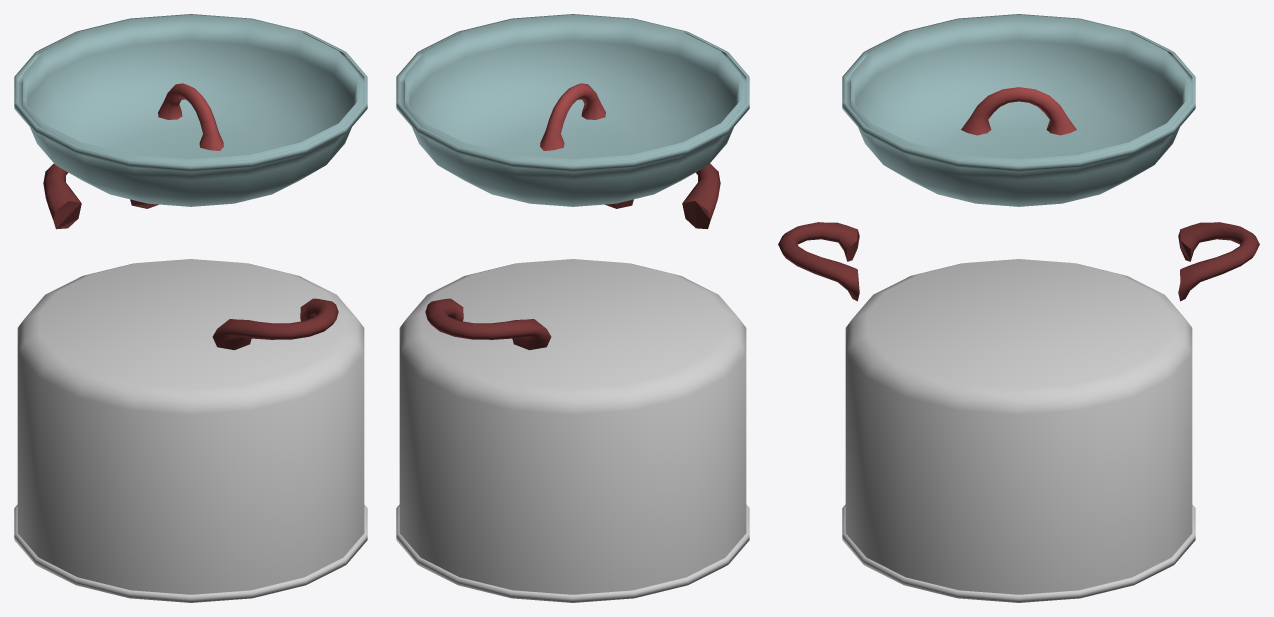
File: pot-short.FBX
3 views of the same model, side by side, from view 1: azimuth 30°, elevation 25°; view 2: azimuth 150°, elevation 25°; view 3: azimuth 270°, elevation 25° (orthographic).
Parts seen in each view (by area): view 1: Pot, Lid, Pot Handle001, Lid Handle, Pot Handle; view 2: Pot, Lid, Pot Handle, Lid Handle, Pot Handle001; view 3: Pot, Lid, Pot Handle001, Pot Handle, Lid Handle.
Boxes of the visible parts, left/top/right/bottom form: Pot: left=14, top=259, right=367, bottom=602; Lid: left=14, top=14, right=367, bottom=206; Pot Handle001: left=212, top=298, right=338, bottom=350; Lid Handle: left=158, top=83, right=223, bottom=150; Pot Handle: left=43, top=163, right=158, bottom=229; Pot: left=396, top=259, right=749, bottom=602; Lid: left=396, top=14, right=749, bottom=206; Pot Handle: left=425, top=298, right=551, bottom=350; Lid Handle: left=540, top=83, right=605, bottom=150; Pot Handle001: left=605, top=163, right=720, bottom=229; Pot: left=842, top=259, right=1195, bottom=602; Lid: left=842, top=14, right=1195, bottom=206; Pot Handle001: left=778, top=222, right=859, bottom=301; Pot Handle: left=1178, top=222, right=1259, bottom=301; Lid Handle: left=961, top=87, right=1076, bottom=135.
Bounding box in the file's own units: 111 × 151 × 149.
